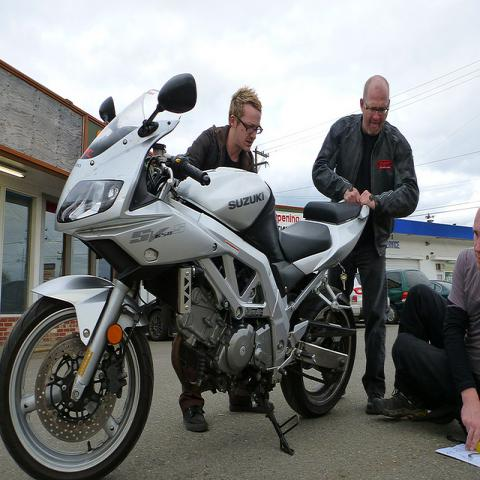car: (386, 270, 452, 326), (140, 299, 177, 341), (350, 271, 363, 322), (430, 279, 452, 300)
motorcycle: (1, 73, 370, 472)
